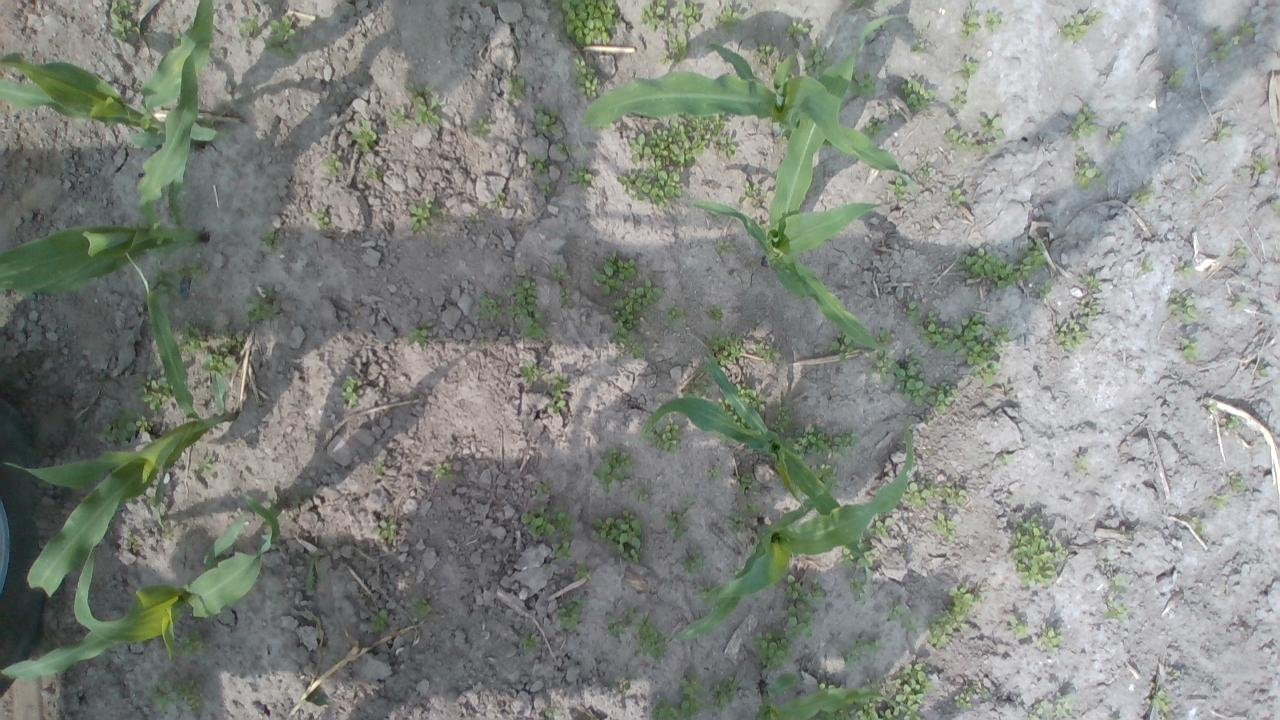Maize: (0, 252, 242, 600), (691, 13, 904, 359), (0, 0, 210, 298), (0, 496, 279, 682), (674, 428, 916, 640), (584, 46, 921, 193), (646, 354, 868, 562), (0, 24, 226, 152), (746, 671, 924, 720)
Weeds: (920, 310, 1009, 386), (1006, 514, 1068, 590), (960, 238, 1052, 289), (628, 119, 708, 171), (893, 356, 960, 413), (928, 584, 984, 649), (608, 607, 669, 662), (616, 161, 684, 209), (880, 661, 935, 720), (552, 0, 620, 46), (781, 572, 824, 640), (522, 507, 576, 560), (610, 278, 665, 330), (652, 670, 706, 720), (506, 276, 546, 342), (792, 424, 861, 460), (594, 510, 641, 562), (144, 678, 203, 715), (592, 251, 638, 296), (901, 482, 968, 512), (591, 447, 632, 496), (98, 408, 152, 444), (259, 13, 300, 59), (134, 366, 174, 412), (404, 80, 442, 127), (865, 328, 894, 385), (751, 630, 793, 668), (816, 697, 880, 720), (643, 418, 681, 456), (1062, 9, 1104, 43), (1072, 146, 1104, 190), (243, 287, 280, 325), (944, 128, 992, 156), (107, 0, 141, 39), (708, 332, 746, 366), (1054, 316, 1090, 351), (900, 77, 936, 112), (572, 56, 602, 98), (708, 115, 736, 159), (1167, 288, 1201, 324), (614, 320, 645, 358), (1028, 693, 1071, 720), (717, 396, 751, 430), (841, 638, 880, 667), (175, 320, 208, 354), (805, 40, 833, 80), (736, 383, 767, 419), (712, 674, 742, 711), (556, 596, 586, 632), (641, 0, 672, 34), (1070, 106, 1101, 140), (683, 367, 711, 403), (530, 102, 561, 134), (410, 197, 440, 230), (147, 270, 180, 300), (348, 118, 377, 152), (728, 503, 759, 534), (954, 684, 992, 709), (174, 630, 209, 657), (930, 509, 956, 544), (658, 34, 688, 63), (870, 511, 896, 543), (714, 0, 739, 33), (848, 68, 876, 96), (750, 42, 776, 71), (678, 547, 703, 577), (832, 330, 854, 364), (201, 355, 238, 375), (409, 320, 435, 348), (812, 463, 841, 488), (550, 373, 568, 412), (666, 511, 690, 540), (1208, 31, 1232, 60), (977, 115, 1005, 139), (1040, 627, 1066, 652), (568, 160, 592, 187), (857, 536, 877, 568), (679, 0, 700, 30), (959, 8, 980, 38), (1102, 598, 1128, 622), (744, 180, 768, 206), (372, 521, 398, 545), (342, 376, 362, 406), (504, 76, 528, 101), (774, 406, 794, 434), (236, 16, 264, 36), (520, 361, 544, 384), (1232, 17, 1254, 42), (612, 672, 638, 693), (1007, 614, 1029, 638), (664, 302, 684, 328), (1152, 692, 1175, 714), (752, 341, 778, 360), (176, 260, 203, 278), (216, 334, 243, 352), (528, 152, 548, 176), (322, 152, 342, 176), (306, 556, 320, 590), (480, 298, 502, 319), (957, 58, 978, 80), (839, 545, 858, 569), (1181, 336, 1200, 360), (848, 575, 865, 601), (889, 176, 910, 197), (1252, 156, 1274, 176), (313, 207, 332, 230), (1166, 66, 1184, 90), (472, 115, 490, 139), (520, 632, 540, 653), (261, 226, 282, 246), (1130, 188, 1152, 207), (1079, 272, 1102, 290), (787, 18, 807, 38), (864, 118, 888, 134), (308, 692, 332, 708), (889, 602, 908, 622), (1035, 280, 1054, 300), (1106, 125, 1125, 145), (414, 598, 434, 616), (734, 471, 754, 489), (390, 106, 406, 128), (371, 609, 386, 632), (1110, 574, 1128, 592), (949, 93, 968, 110), (574, 560, 590, 580), (1230, 472, 1246, 492), (1190, 516, 1206, 536), (985, 12, 1001, 32), (914, 163, 936, 177), (434, 463, 452, 480), (706, 305, 724, 322), (631, 487, 649, 504), (948, 188, 966, 205), (1192, 176, 1208, 195), (200, 455, 216, 473), (1210, 492, 1228, 508), (1079, 300, 1097, 316), (1214, 126, 1232, 142), (1178, 262, 1196, 278), (122, 526, 136, 546), (536, 481, 552, 498), (1234, 239, 1249, 257), (682, 494, 696, 513), (200, 119, 220, 131), (906, 303, 920, 320), (815, 679, 834, 691), (372, 457, 387, 472), (1227, 416, 1242, 431), (550, 263, 563, 280), (558, 142, 576, 154), (706, 465, 720, 480), (559, 288, 572, 304), (494, 192, 506, 209), (1232, 296, 1249, 308), (463, 212, 481, 223), (904, 622, 919, 634), (719, 240, 730, 256), (543, 706, 559, 717), (1074, 462, 1088, 474), (364, 164, 378, 176), (1142, 259, 1154, 272), (847, 0, 863, 9), (911, 40, 925, 50), (263, 496, 274, 508), (1256, 366, 1268, 376), (1000, 382, 1010, 393), (543, 181, 552, 193), (1271, 198, 1280, 210), (999, 454, 1009, 464), (146, 495, 154, 506), (779, 136, 790, 144), (1208, 403, 1216, 413), (892, 109, 900, 118), (292, 496, 301, 503)
